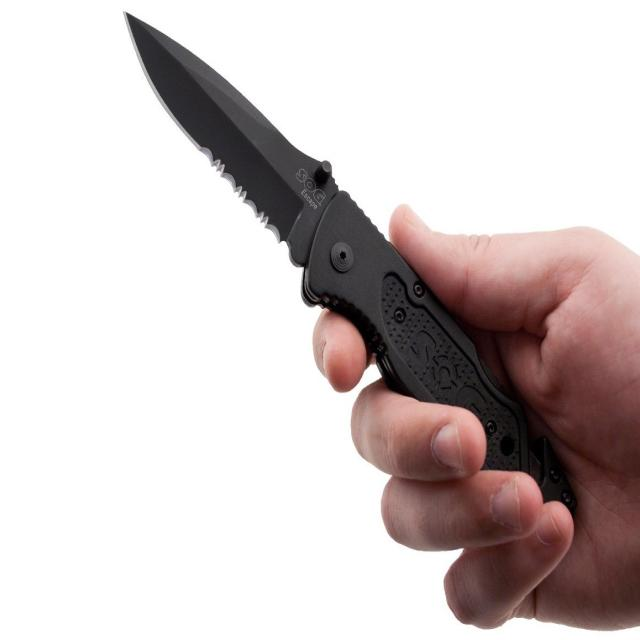knife: (120, 12, 583, 529)
